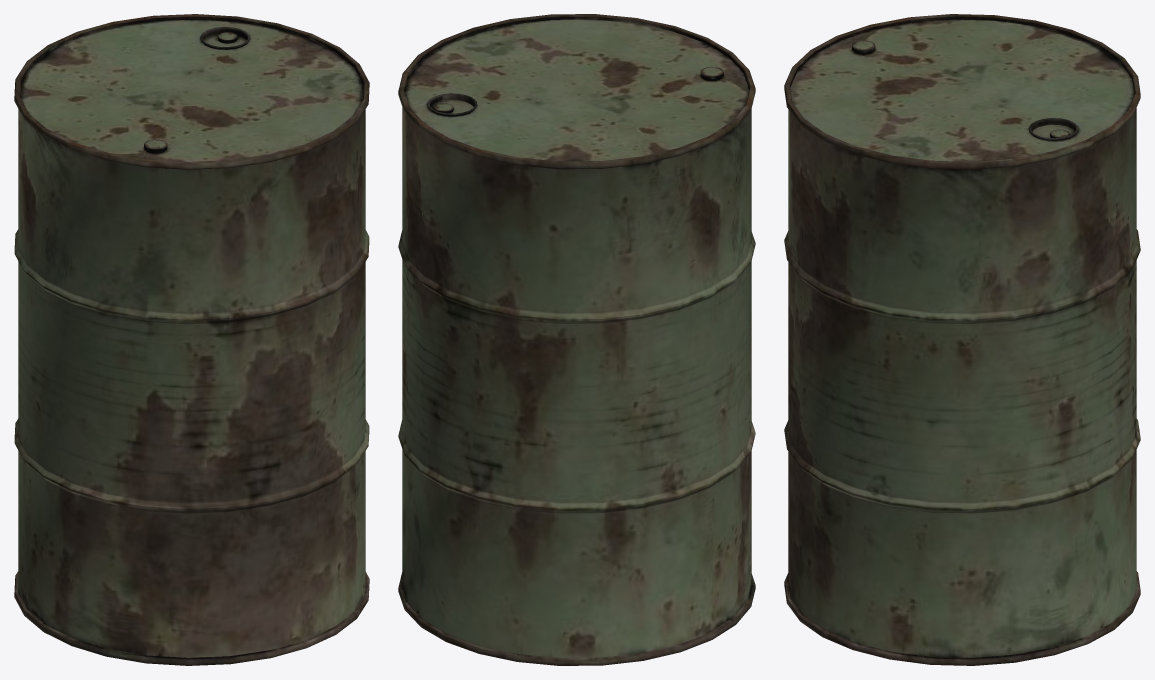
File: barrel_01.glb
3 renders of one model, left to right at view 1: azimuth 30°, elevation 25°; view 2: azimuth 150°, elevation 25°; view 3: azimuth 270°, elevation 25°, orthographic.
Visible parts, largest first — view 1: barrel_01; view 2: barrel_01; view 3: barrel_01.
Boxes of the visible parts, x1,y1,x2,y2 form: barrel_01: (14, 14, 369, 665); barrel_01: (398, 14, 755, 665); barrel_01: (784, 14, 1140, 665).
Bounding box in the file's own units: 0.563 × 0.88 × 0.563.
1 material, 1 textured.
